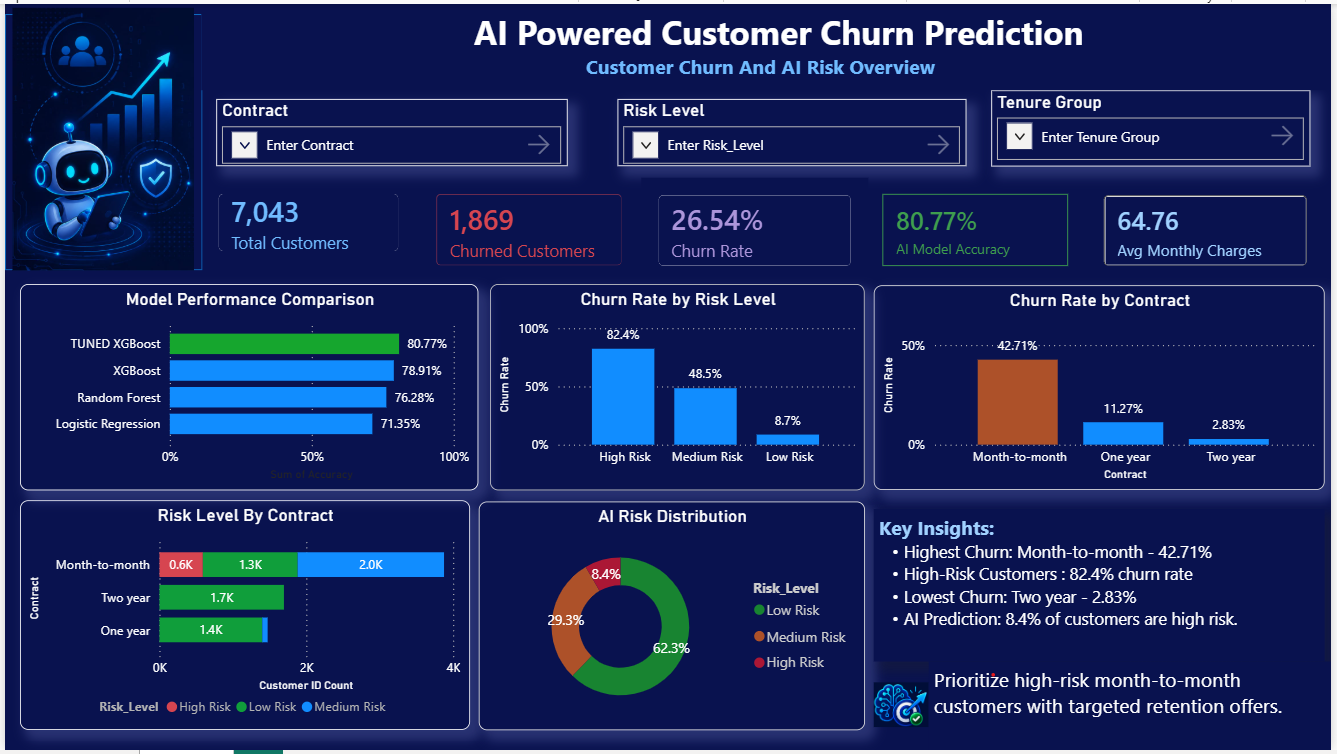

The dashboard page shown, as its layout file describes it:
{"tool":"powerbi","page":{"name":"Page 1","canvas":[1280,720],"ordinal":0},"visuals":[{"type":"shape","box":[0,9.7,190.6,247.3],"z":0},{"type":"image","box":[203.9,9.7,108.6,63.9],"z":1000},{"type":"textSlicer","title":"Risk Level","fields":{"Values":["churn_predictions.Risk_Level"]},"box":[591.2,91.7,336.6,65.1],"z":2000},{"type":"textSlicer","fields":{"Values":["churn_predictions.Contract"]},"box":[203.9,91.7,339,65.1],"z":3000},{"type":"textSlicer","fields":{"Values":["churn_predictions.Tenure Group"]},"box":[951.9,83.2,307.6,73.6],"z":4000},{"type":"textbox","box":[189.4,0,1090.6,83.2],"z":5000},{"type":"cardVisual","fields":{"Data":["churn_predictions.Total Customers"]},"box":[189.4,166.5,207.5,89.3],"z":6000},{"type":"cardVisual","fields":{"Data":["churn_predictions.Churned Customers"]},"box":[399.3,166.5,213.5,103.8],"z":7000},{"type":"cardVisual","fields":{"Data":["churn_predictions.Churn Rate"]},"box":[614.1,167.7,219.6,102.5],"z":8000},{"type":"cardVisual","fields":{"Data":["churn_predictions.Avg Monthly Charges"]},"box":[1043.6,167.7,230.4,102.5],"z":9000},{"type":"columnChart","fields":{"Y":["churn_predictions.Churn Rate"],"Category":["churn_predictions.Contract"]},"box":[838.5,271.4,435.5,197.9],"z":10000},{"type":"columnChart","title":"Churn Rate by Risk Level","fields":{"Y":["churn_predictions.Churn Rate"],"Category":["churn_predictions.Risk_Level"]},"box":[468.1,270.2,361.9,199.1],"z":11000},{"type":"barChart","title":"Risk Level By Contract","fields":{"Category":["churn_predictions.Contract"],"Y":["churn_predictions.Customer ID Count"],"Series":["churn_predictions.Risk_Level"]},"box":[14.5,479,434.3,222],"z":12000},{"type":"donutChart","title":"AI Risk Distribution","fields":{"Category":["churn_predictions.Risk_Level"],"Y":["churn_predictions.Customer ID Count"]},"box":[457.2,480.2,372.8,220.8],"z":13000},{"type":"image","box":[0,3.6,189.4,253.4],"z":14000},{"type":"textbox","box":[838.5,487.4,435.5,147.2],"z":15000},{"type":"textbox","box":[891.6,634.6,388.5,85.7],"z":16000},{"type":"cardVisual","fields":{"Data":["churn_predictions.AI Model Accuracy"]},"box":[830,166.5,213.5,103.8],"z":17000},{"type":"barChart","title":"Model Performance Comparison","fields":{"Category":["Model Performance.Model"],"Y":["Sum(Model Performance.Accuracy)"]},"box":[14.5,270.2,442.8,199.1],"z":18000},{"type":"image","box":[838.5,651.5,53.1,49.5],"z":19000}]}

Visuals, with their boxes in screenshot pixels (x1, y1, x2, y2), scaled from the page's 1280x720 canvas onto the 1337x754 screenshot:
shape: [0, 10, 199, 269]
image: [213, 10, 326, 77]
"Risk Level" textSlicer: [618, 96, 969, 164]
textSlicer - churn_predictions.Contract: [213, 96, 567, 164]
textSlicer - churn_predictions.Tenure Group: [994, 87, 1316, 164]
textbox: [198, 0, 1336, 87]
cardVisual - churn_predictions.Total Customers: [198, 174, 415, 268]
cardVisual - churn_predictions.Churned Customers: [417, 174, 640, 283]
cardVisual - churn_predictions.Churn Rate: [641, 176, 871, 283]
cardVisual - churn_predictions.Avg Monthly Charges: [1090, 176, 1331, 283]
columnChart - churn_predictions.Churn Rate x churn_predictions.Contract: [876, 284, 1331, 491]
"Churn Rate by Risk Level" columnChart: [489, 283, 867, 491]
"Risk Level By Contract" barChart: [15, 502, 469, 734]
"AI Risk Distribution" donutChart: [478, 503, 867, 734]
image: [0, 4, 198, 269]
textbox: [876, 510, 1331, 665]
textbox: [931, 665, 1336, 753]
cardVisual - churn_predictions.AI Model Accuracy: [867, 174, 1090, 283]
"Model Performance Comparison" barChart: [15, 283, 478, 491]
image: [876, 682, 931, 734]
